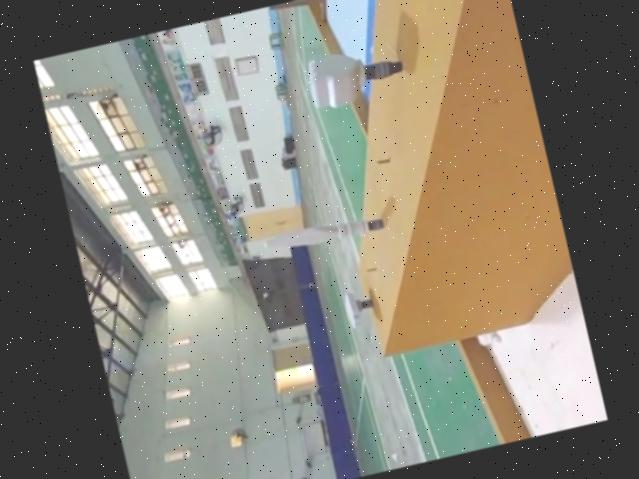Fist: (300, 31, 411, 109)
Hand: (340, 287, 379, 331), (340, 287, 379, 330)
Sph: (241, 203, 389, 263)
